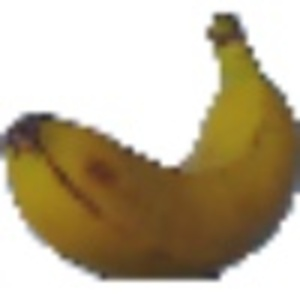banana: (6, 10, 295, 288)
